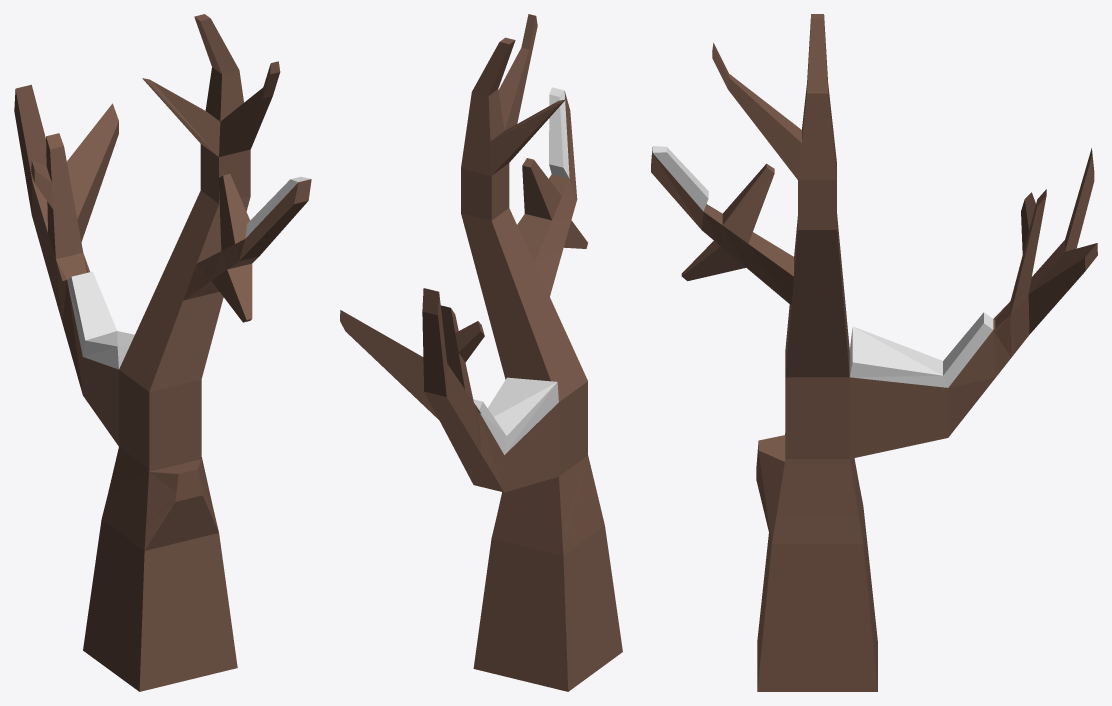
Rendered from Dead_Tree.fbx.
The picture shows the model from 3 angles, left to right: view 1: azimuth 30°, elevation 25°; view 2: azimuth 150°, elevation 25°; view 3: azimuth 270°, elevation 25°; orthographic projection. The views are drawn at different scales.
Parts seen in each view (by area): view 1: DeadTree; view 2: DeadTree; view 3: DeadTree.
Boxes of the visible parts, x1,y1,x2,y2 form: DeadTree: [14, 14, 311, 691]; DeadTree: [340, 14, 622, 691]; DeadTree: [651, 14, 1097, 691].
Size of the model in its own units: 1.93 by 8.74 by 5.27.
